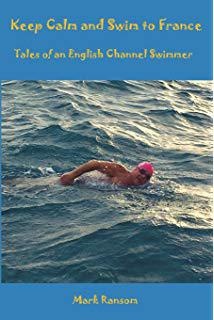swimmer: (62, 157, 152, 196)
